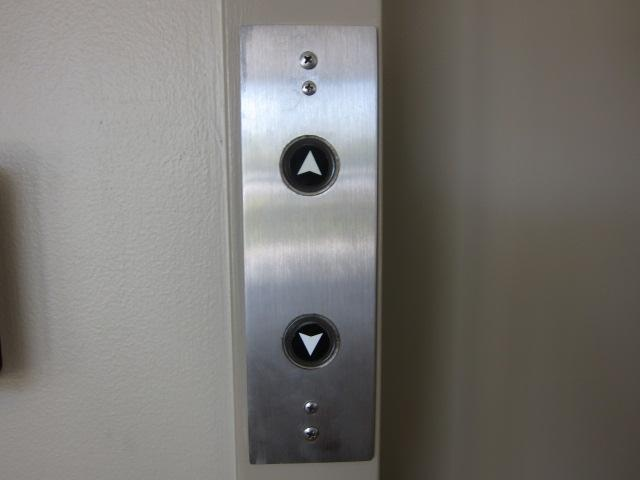down: (279, 310, 341, 373)
up: (277, 132, 341, 200)
